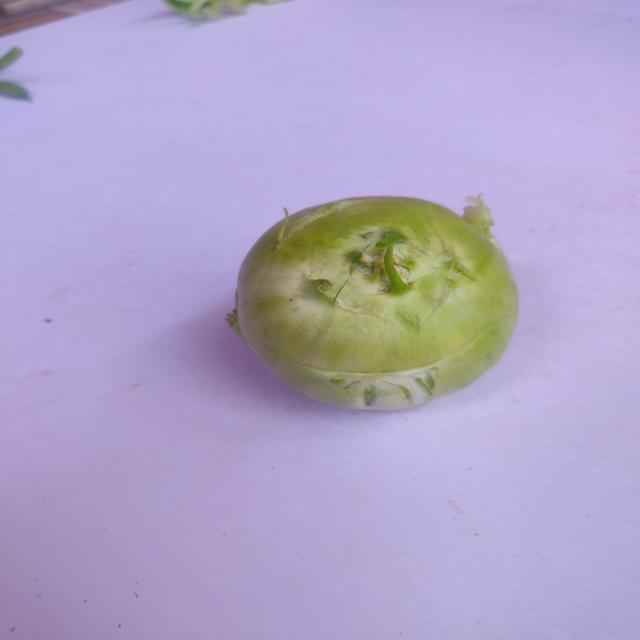Turnip: (213, 181, 550, 430)
